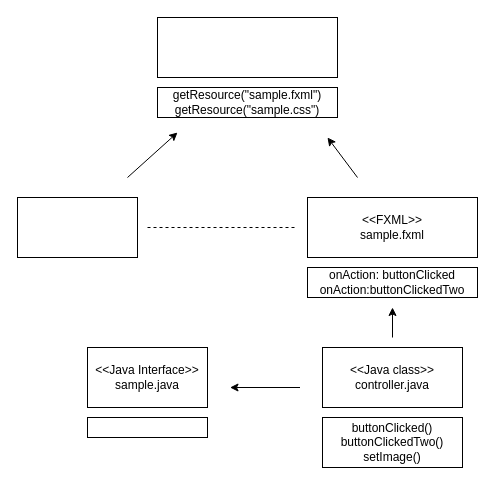
This 495x485 diagram has some shape labels left out. The centre of each missing label's shape, as x and y in pixels:
<<CSS>> sample.css: point 77,227
<<Java Class>> Main.java: point 247,47
setImage(): point 147,427
